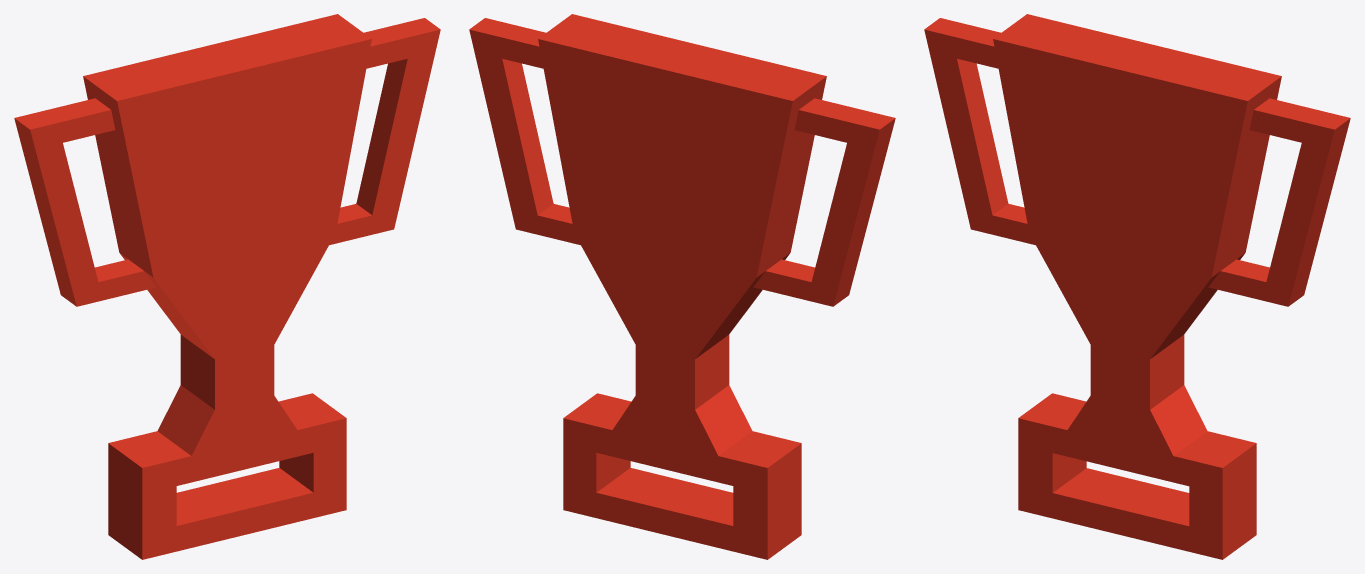
The model's file is Icon_ChampionCup_01.fbx.
3 renders of one model, left to right at view 1: azimuth 30°, elevation 25°; view 2: azimuth 150°, elevation 25°; view 3: azimuth 330°, elevation 25°, orthographic.
Parts seen in each view (by area): view 1: Icon_ChampionCup_01; view 2: Icon_ChampionCup_01; view 3: Icon_ChampionCup_01.
Boxes of the visible parts, x1,y1,x2,y2 form: Icon_ChampionCup_01: (14,14,440,559); Icon_ChampionCup_01: (469,14,895,559); Icon_ChampionCup_01: (924,14,1350,559).
Size of the model in its own units: 69.82 by 75.55 by 10.05.
